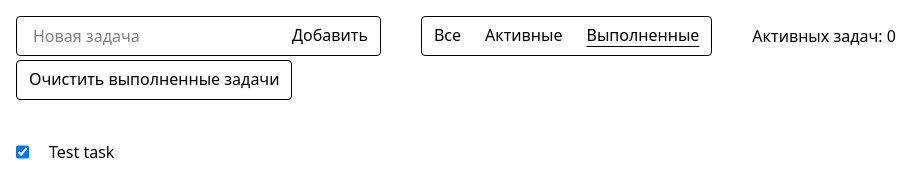
Test: Delete task
Step 1. Click the button "Все" → {"x": 447, "y": 36}, box [422,17,473,55]
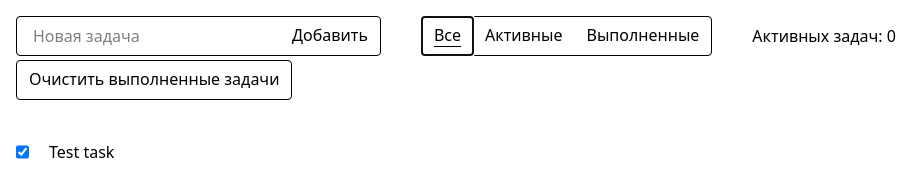
Check: the checkbox is checked, box [16,140,29,164]
Step 2. Click the button "Очистить выполненные задачи" → {"x": 154, "y": 80}, box [17,61,292,99]
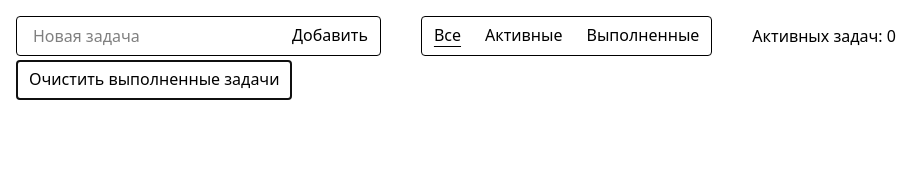
Check: the checkbox is gone
